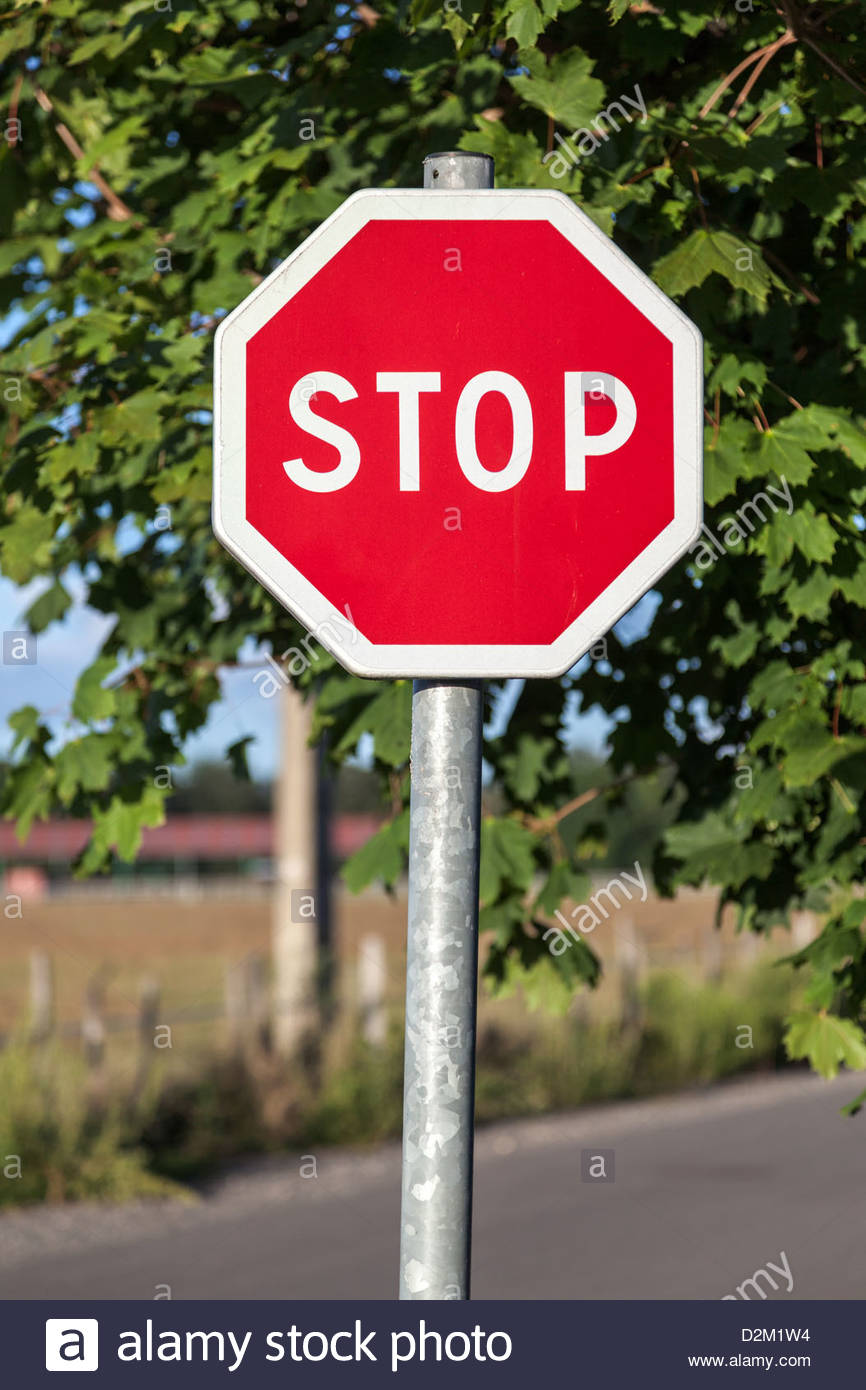stopsign: (215, 186, 708, 681)
